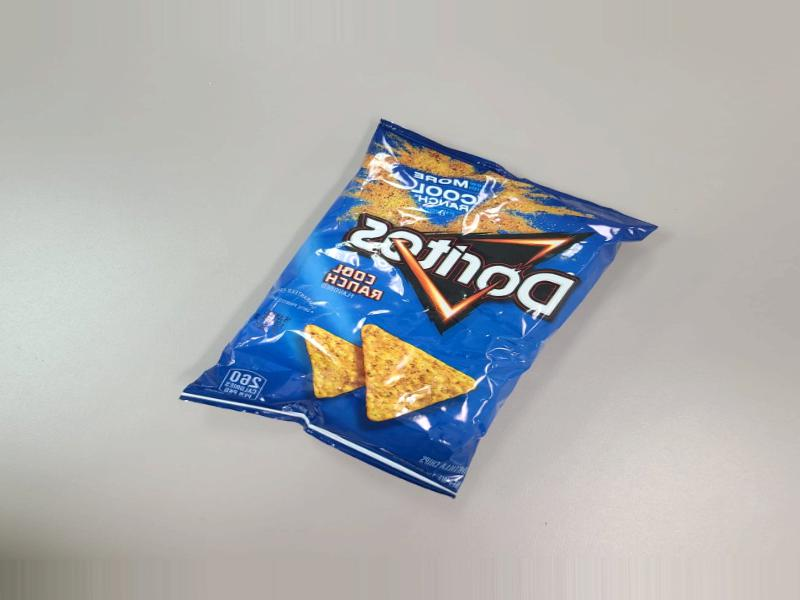doritos: (249, 147, 686, 500)
